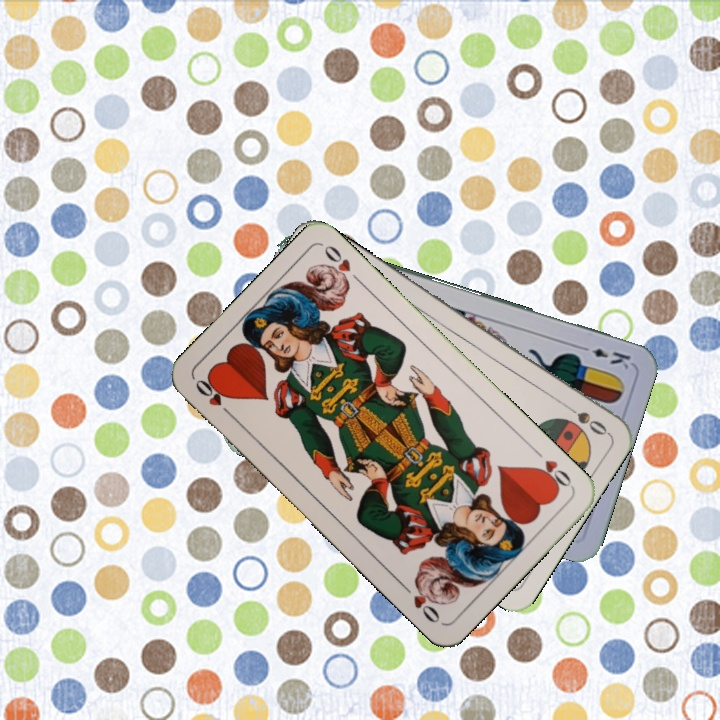EK: (575, 341, 634, 372)
HO: (529, 444, 575, 493), (191, 374, 238, 421)
SO: (558, 398, 610, 438)
